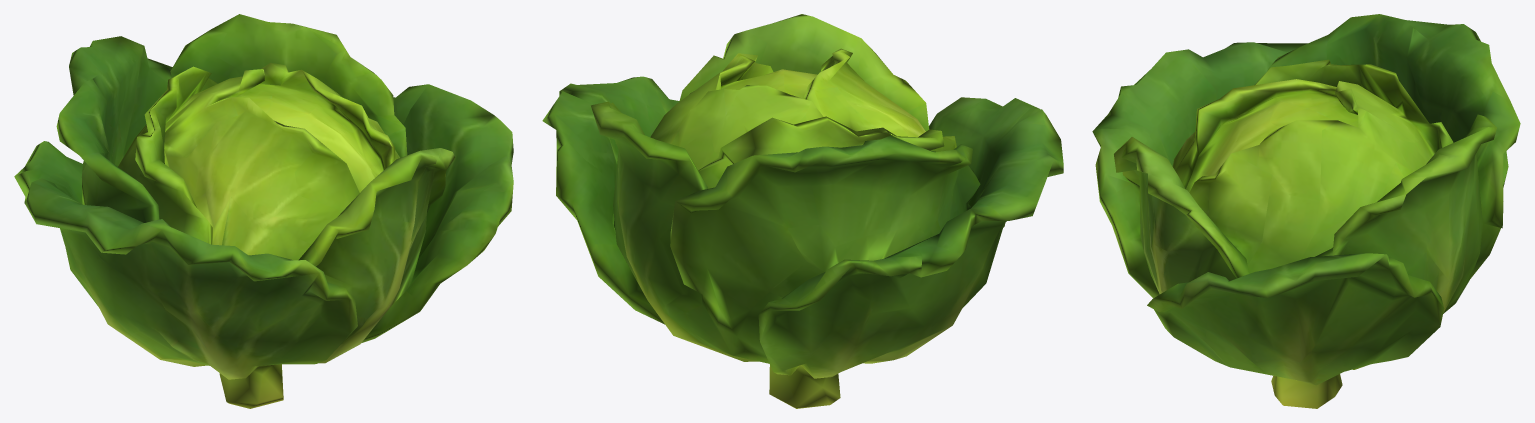
File: crop-cabbage.glb
3 views of the same model, side by side, from view 1: azimuth 30°, elevation 25°; view 2: azimuth 150°, elevation 25°; view 3: azimuth 270°, elevation 25° (orthographic). The views are drawn at different scales.
Parts seen in each view (by area): view 1: tripo_node_8b1043a7-02d7-4f5d-a9f9-77a001e5c5bd; view 2: tripo_node_8b1043a7-02d7-4f5d-a9f9-77a001e5c5bd; view 3: tripo_node_8b1043a7-02d7-4f5d-a9f9-77a001e5c5bd.
Part boxes in pixels (x1=…): tripo_node_8b1043a7-02d7-4f5d-a9f9-77a001e5c5bd: x1=14, y1=14, x2=513, y2=408; tripo_node_8b1043a7-02d7-4f5d-a9f9-77a001e5c5bd: x1=542, y1=14, x2=1063, y2=408; tripo_node_8b1043a7-02d7-4f5d-a9f9-77a001e5c5bd: x1=1092, y1=14, x2=1520, y2=408.
Size of the model in its own units: 1 by 0.6623 by 0.7898.
Materials: 1 (1 with a texture image).
